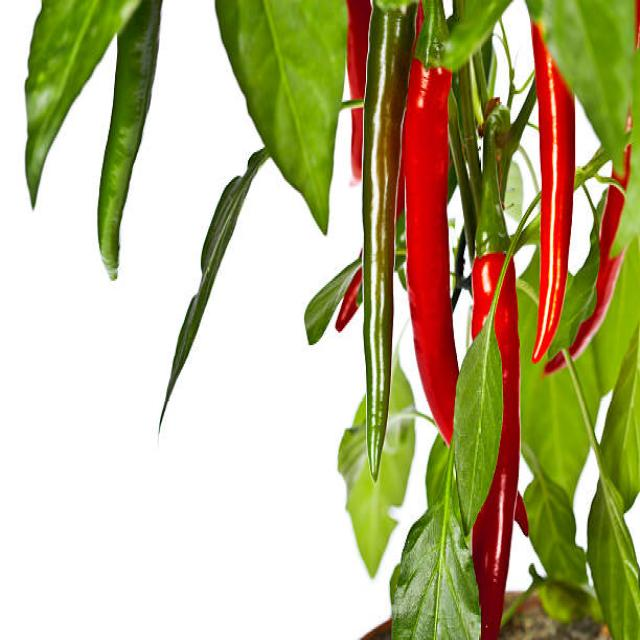Ripe: (403, 56, 459, 449), (469, 257, 519, 638), (532, 22, 574, 361)
Unripe: (362, 5, 417, 485)
